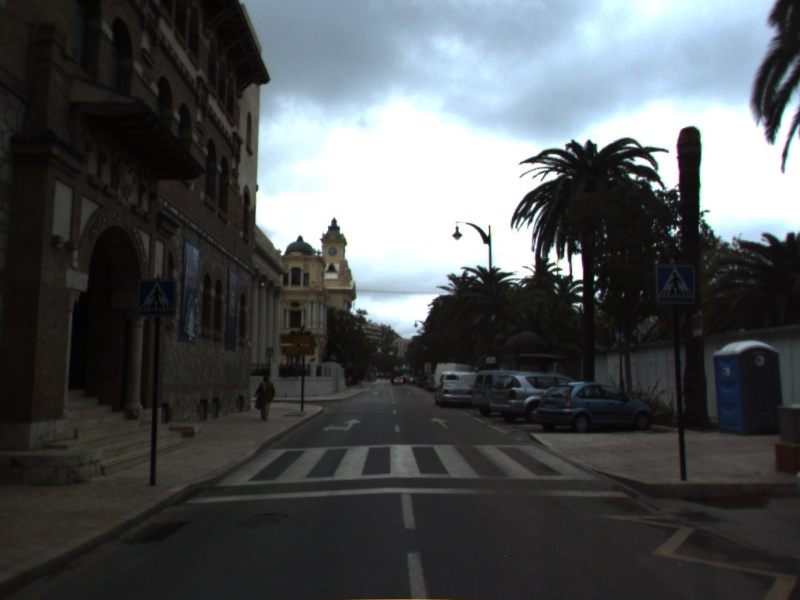STRAIGHT: (428, 415, 452, 430)
STRAIGHT_LEFT: (320, 416, 363, 434)
